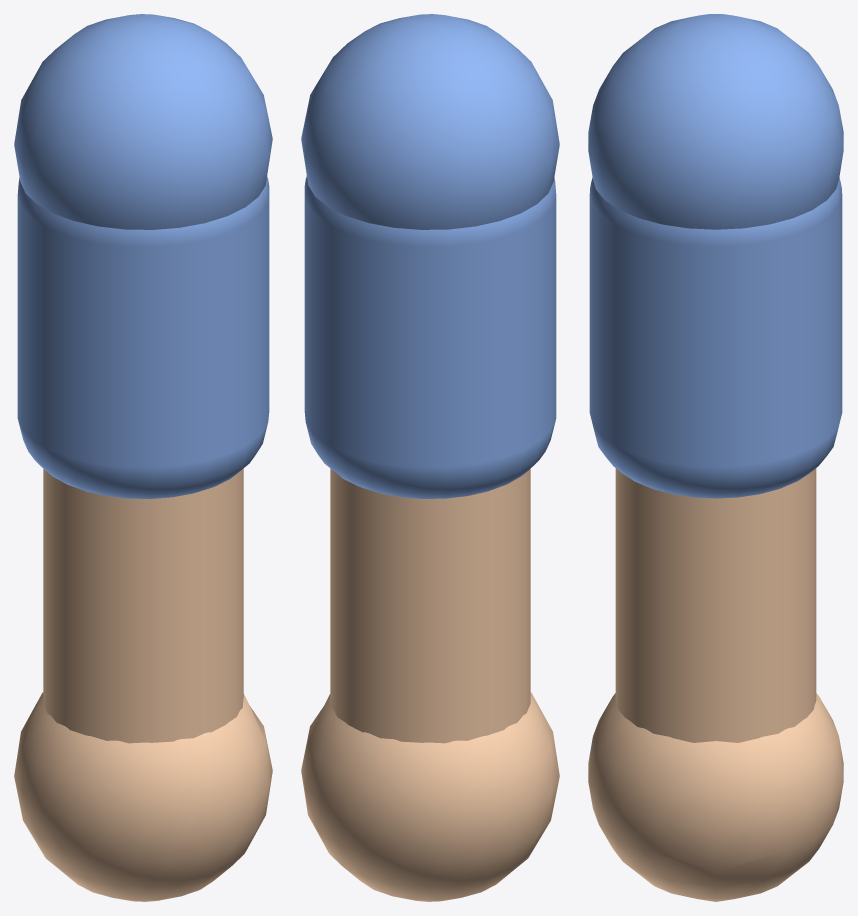
File: CharArm.glb
The picture shows the model from 3 angles, left to right: view 1: azimuth 30°, elevation 25°; view 2: azimuth 150°, elevation 25°; view 3: azimuth 270°, elevation 25°; orthographic projection.
Visible parts, largest first — view 1: customerBase, playerSkin (×2); view 2: customerBase, playerSkin (×2); view 3: customerBase, playerSkin (×2).
Boxes of the visible parts, x1,y1,x2,y2 form: customerBase: (14,14,272,498); playerSkin (×2): (14,468,272,901); customerBase: (301,14,559,498); playerSkin (×2): (301,468,559,901); customerBase: (588,14,843,498); playerSkin (×2): (588,468,843,901).
Size of the model in its own units: 0.159 by 0.59 by 0.158.
